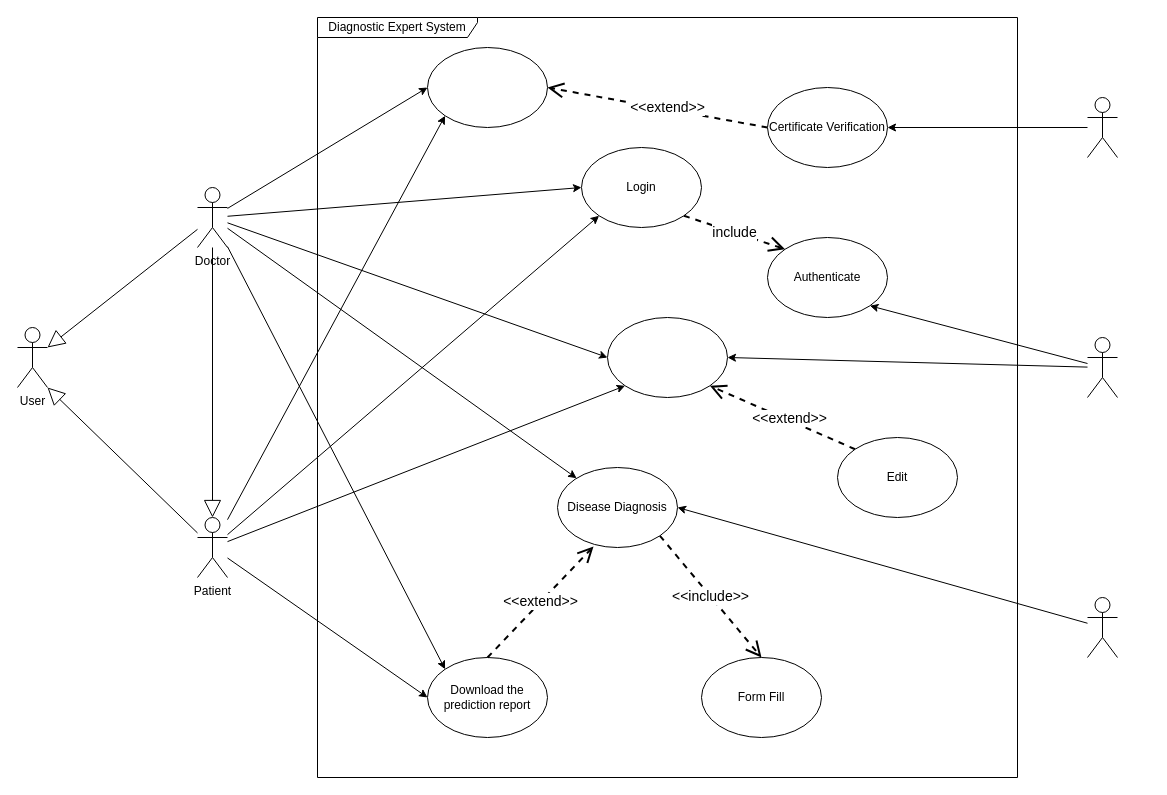
Some shapes in this 1167 by 795 pixel diagram are drawn without their labels. The centre of each missing label's shape, as x and y in pixels:
Admin: the point at 1102,127
Database: the point at 1102,367
Disease Predictor: the point at 1102,627
Signup: the point at 487,87
View Profile: the point at 667,357
